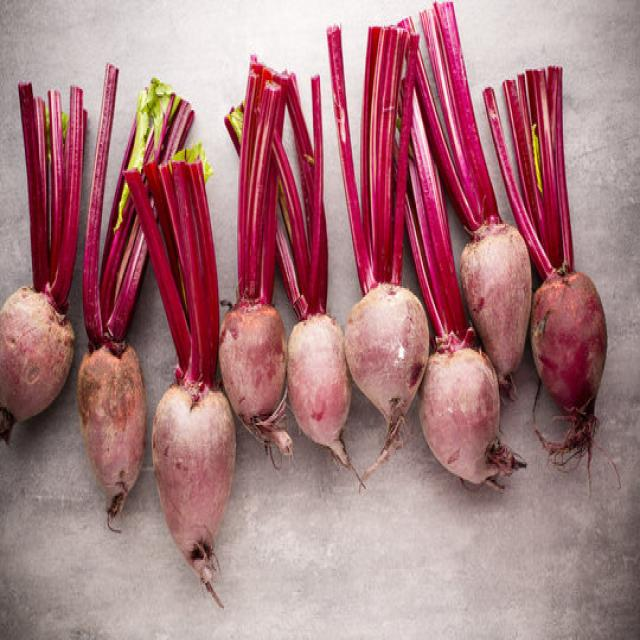Beetroot: (76, 71, 195, 533), (524, 62, 619, 459), (146, 176, 232, 578), (0, 78, 87, 443), (227, 119, 289, 445), (291, 105, 347, 442), (464, 71, 530, 342), (410, 341, 519, 498)
Garlic: (350, 37, 430, 438)
